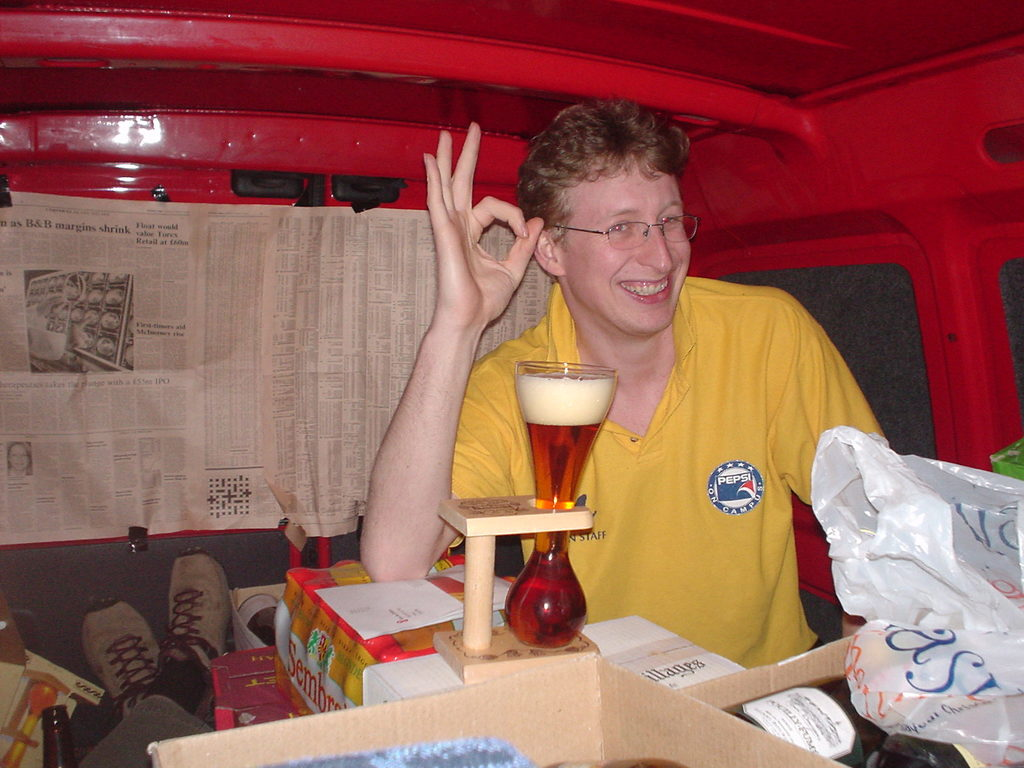Beer: (517, 368, 613, 643)
